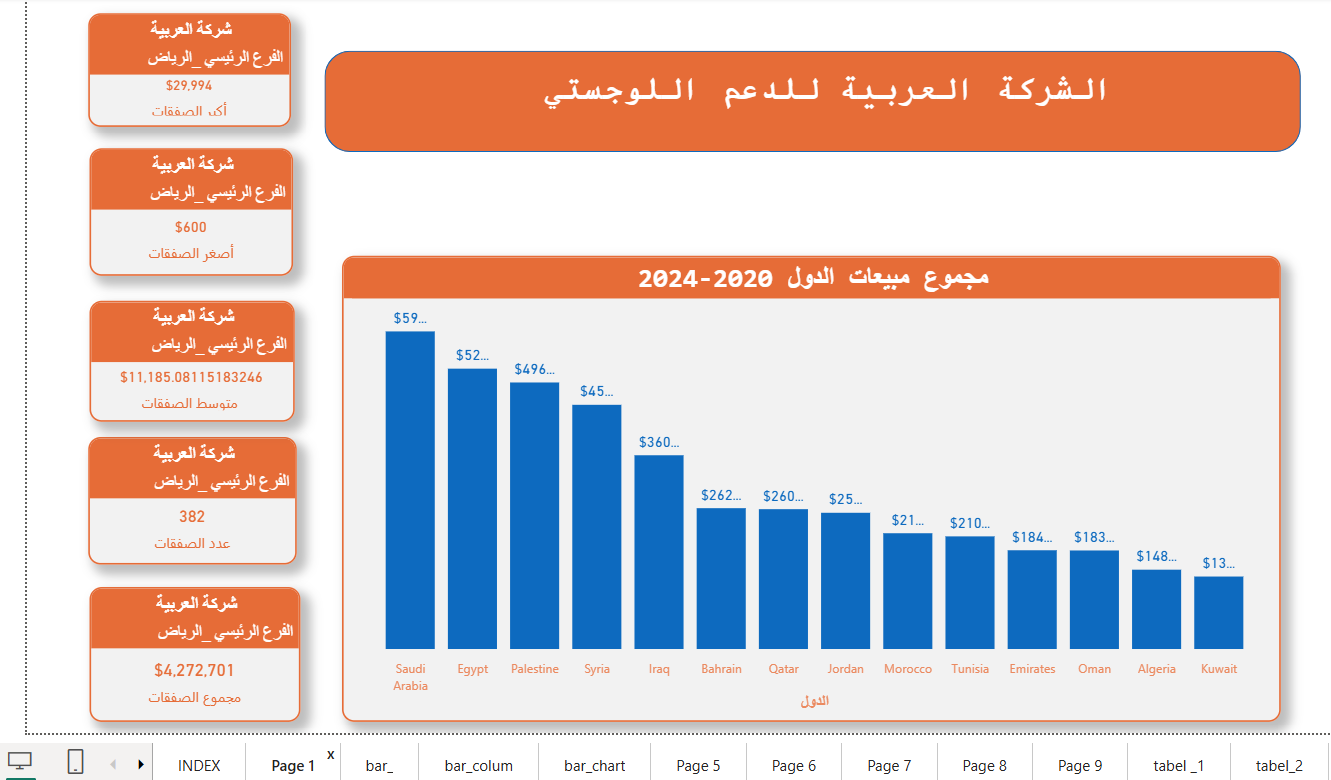

The dashboard page shown, as its layout file describes it:
{"tool":"powerbi","page":{"name":"Page 1","canvas":[1280,720],"ordinal":1},"visuals":[{"type":"card","title":"شركة العربية","fields":{"Values":["Sum(Companies_Table.التكلفة النهائية)"]},"box":[60.9,577.7,206.7,132.1],"z":0},{"type":"card","title":"شركة العربية","fields":{"Values":["Min(Companies_Table.التكلفة النهائية)"]},"box":[60.9,148.5,199.3,124.7],"z":1000},{"type":"card","title":"شركة العربية","fields":{"Values":["CountNonNull(Companies_Table.التكلفة النهائية)"]},"box":[59.7,430.9,204.2,124.7],"z":2000},{"type":"card","title":"شركة العربية","fields":{"Values":["Max(Companies_Table.التكلفة النهائية)"]},"box":[59.7,16.4,198.1,111.3],"z":3000},{"type":"card","title":"شركة العربية","fields":{"Values":["Avg(Companies_Table.التكلفة النهائية)"]},"box":[60.9,297.6,200.5,118.6],"z":4000},{"type":"clusteredColumnChart","title":" 2024-2020 مجموع مبيعات  الدول","fields":{"Category":["Companies_Table.الدول"],"Y":["Sum(Companies_Table.التكلفة النهائية)"]},"box":[308.2,253.1,918.3,456.1],"z":5000},{"type":"shape","box":[291,52.6,955,99],"z":6000},{"type":"textbox","box":[500.1,68.5,611.4,66],"z":7000}]}

Visuals, with their boxes on the page's 1280x720 design canvas (x1, y1, x2, y2). These are canvas units, not pixel positions in the 1331x780 screenshot, which may show the page scaled, cropped or inside an application window:
"شركة العربية" card: [61, 578, 268, 710]
"شركة العربية" card: [61, 148, 260, 273]
"شركة العربية" card: [60, 431, 264, 556]
"شركة العربية" card: [60, 16, 258, 128]
"شركة العربية" card: [61, 298, 261, 416]
" 2024-2020 مجموع مبيعات  الدول" clusteredColumnChart: [308, 253, 1226, 709]
shape: [291, 53, 1246, 152]
textbox: [500, 68, 1112, 134]
